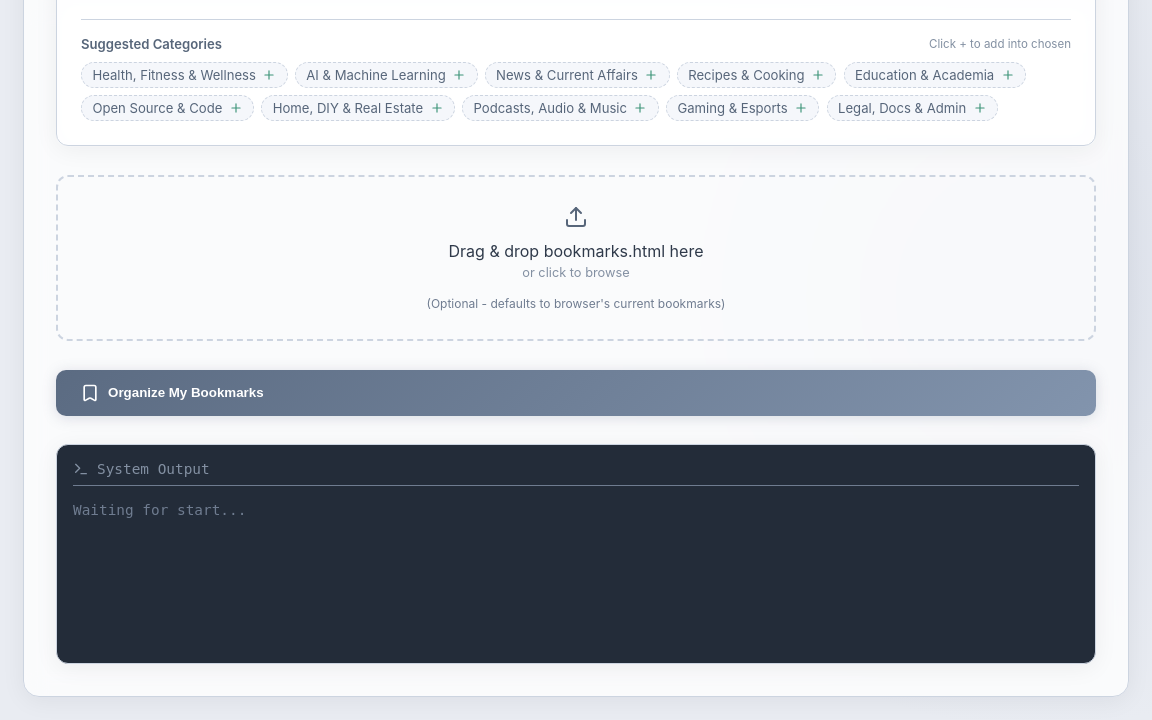
In-process and completion date range display › displays date range under download button on completion screen
The width and height of the screenshot is (1152, 720).
(page scrolled)
Click the button "Organize My Bookmarks": (186, 393) [56,370,1096,416]
(page scrolled)
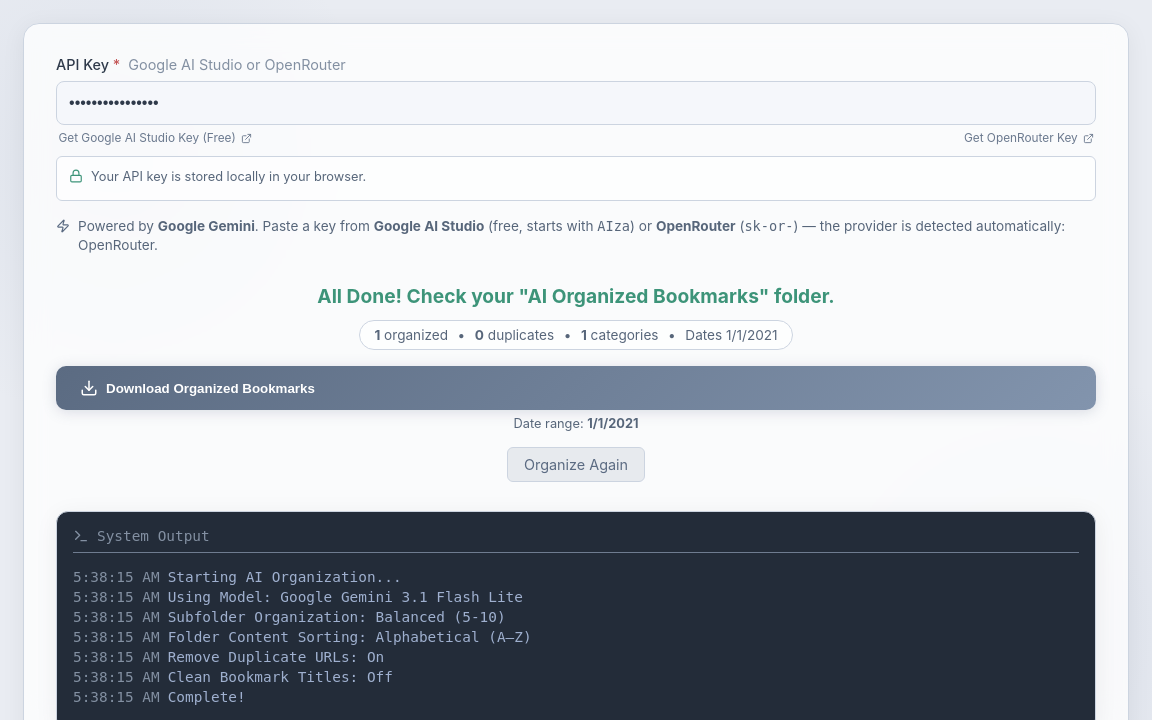
expect the text "All Done! Check your \"AI Organized Bookmarks\" folder." is shown: met, box [317,284,835,308]
expect the text "Date range: 1/1/2021" is shown: met, box [514,416,638,431]
